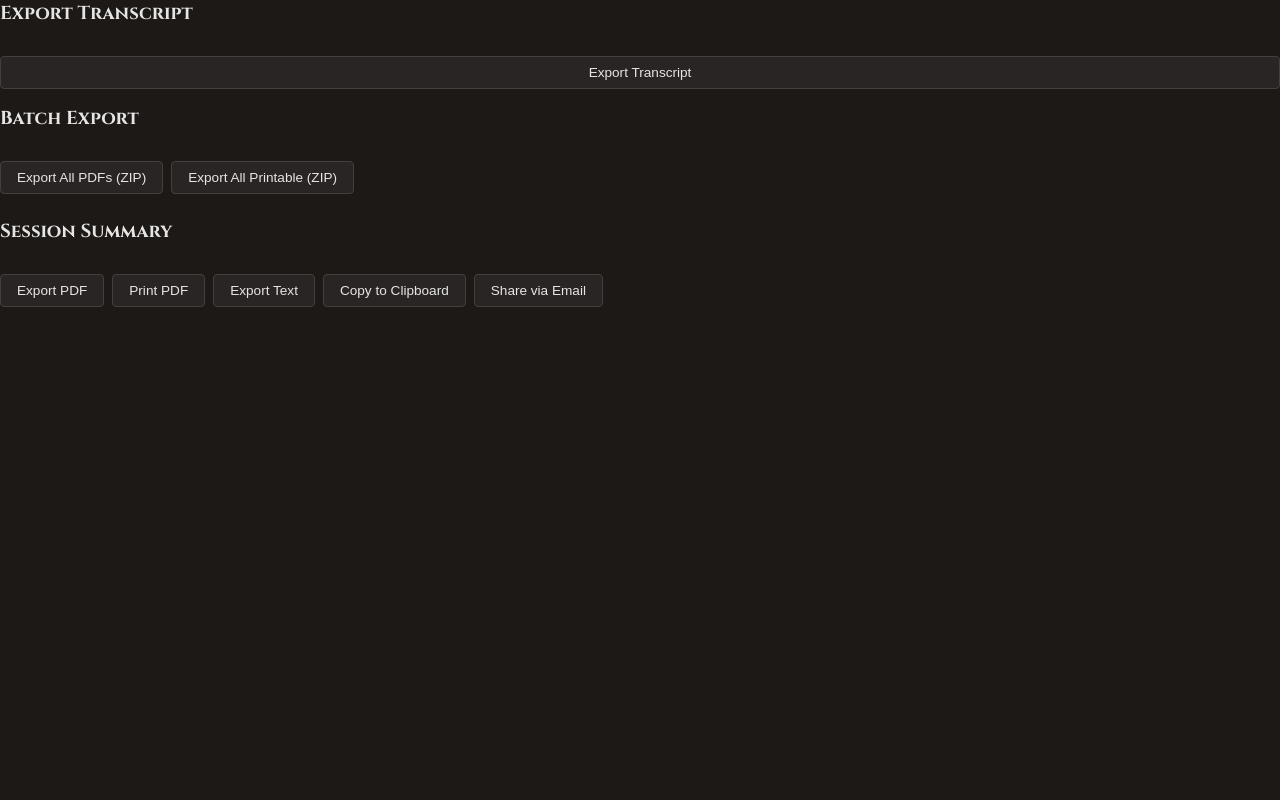
Scenario: ExportSection › opens email dialog when Share via Email is clicked
The width and height of the screenshot is (1280, 800).
Click the button "Share via Email" at coordinates (538, 291), box left=474, top=274, right=603, bottom=307
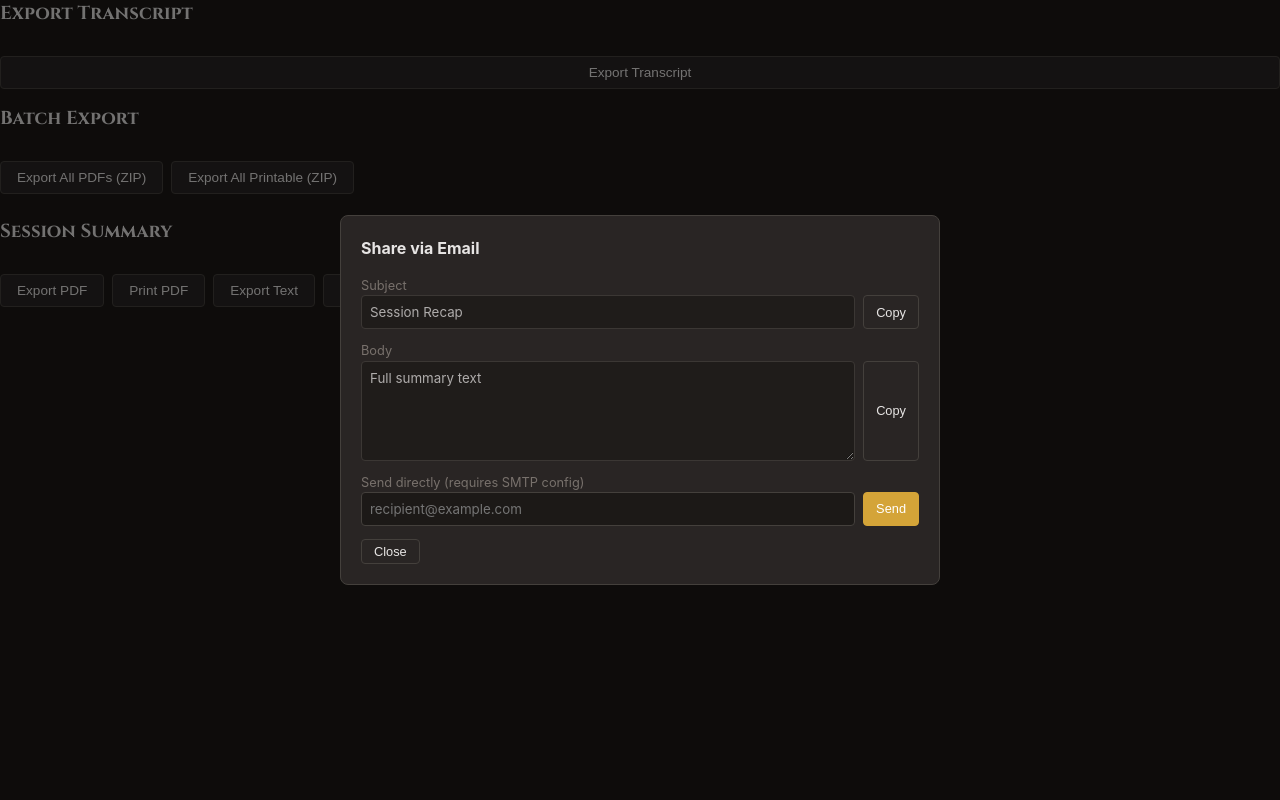
Check: the heading "Share via Email" is shown, box left=361, top=238, right=480, bottom=258
